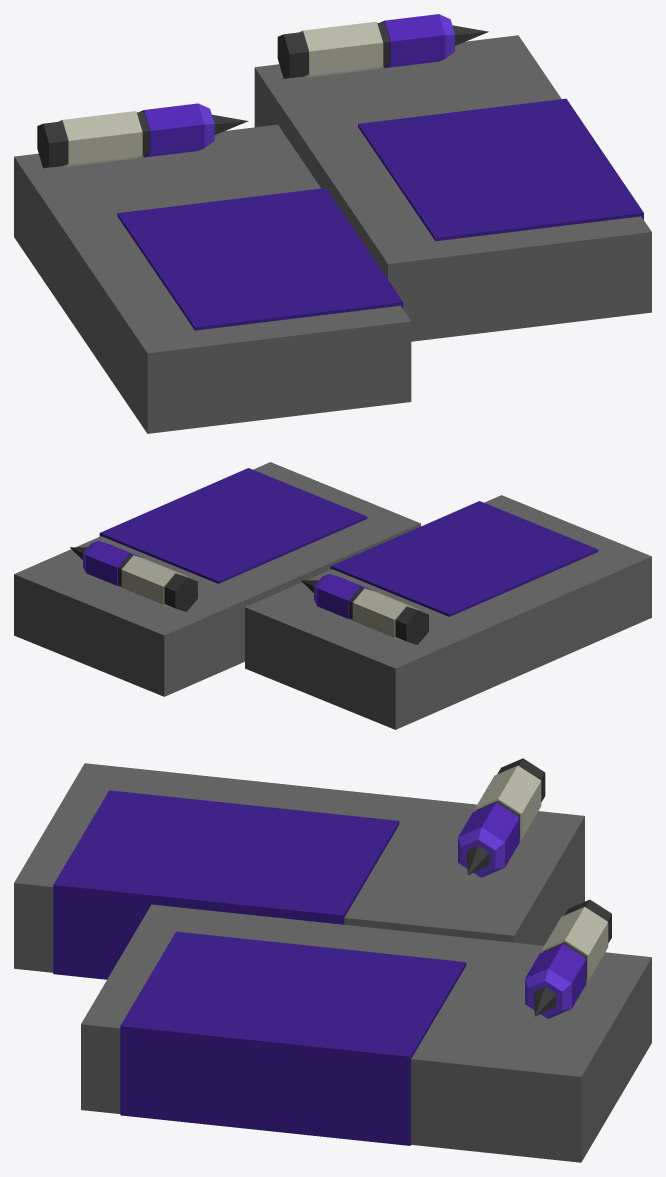
The model's file is ce_ammo_gae_chrifle_ion_b.obj.
3 renders of one model, top to bottom at view 1: azimuth 30°, elevation 25°; view 2: azimuth 150°, elevation 25°; view 3: azimuth 270°, elevation 25°, orthographic. The views are drawn at different scales.
Parts seen in each view (by area): view 1: ce_ammo_gae_chrifle_ion_b_0, ce_ammo_gae_chrifle_ion_b_8, ce_ammo_gae_chrifle_ion_b_1, ce_ammo_gae_chrifle_ion_b_9, ce_ammo_gae_chrifle_ion_b_11, ce_ammo_gae_chrifle_ion_b_3, ce_ammo_gae_chrifle_ion_b_13, ce_ammo_gae_chrifle_ion_b_5, ce_ammo_gae_chrifle_ion_b_2, ce_ammo_gae_chrifle_ion_b_10; view 2: ce_ammo_gae_chrifle_ion_b_0, ce_ammo_gae_chrifle_ion_b_8, ce_ammo_gae_chrifle_ion_b_1, ce_ammo_gae_chrifle_ion_b_9, ce_ammo_gae_chrifle_ion_b_3, ce_ammo_gae_chrifle_ion_b_11, ce_ammo_gae_chrifle_ion_b_5, ce_ammo_gae_chrifle_ion_b_13, ce_ammo_gae_chrifle_ion_b_10, ce_ammo_gae_chrifle_ion_b_2; view 3: ce_ammo_gae_chrifle_ion_b_9, ce_ammo_gae_chrifle_ion_b_8, ce_ammo_gae_chrifle_ion_b_0, ce_ammo_gae_chrifle_ion_b_1, ce_ammo_gae_chrifle_ion_b_3, ce_ammo_gae_chrifle_ion_b_11, ce_ammo_gae_chrifle_ion_b_13, ce_ammo_gae_chrifle_ion_b_5, ce_ammo_gae_chrifle_ion_b_6, ce_ammo_gae_chrifle_ion_b_14.
Boxes of the visible parts, left/top/right/bottom form: ce_ammo_gae_chrifle_ion_b_0: left=14, top=124, right=411, bottom=433; ce_ammo_gae_chrifle_ion_b_8: left=254, top=35, right=651, bottom=341; ce_ammo_gae_chrifle_ion_b_1: left=117, top=188, right=403, bottom=330; ce_ammo_gae_chrifle_ion_b_9: left=358, top=98, right=643, bottom=241; ce_ammo_gae_chrifle_ion_b_11: left=299, top=21, right=383, bottom=77; ce_ammo_gae_chrifle_ion_b_3: left=58, top=111, right=142, bottom=167; ce_ammo_gae_chrifle_ion_b_13: left=379, top=14, right=445, bottom=67; ce_ammo_gae_chrifle_ion_b_5: left=140, top=103, right=204, bottom=157; ce_ammo_gae_chrifle_ion_b_2: left=37, top=121, right=68, bottom=168; ce_ammo_gae_chrifle_ion_b_10: left=277, top=32, right=308, bottom=78; ce_ammo_gae_chrifle_ion_b_0: left=245, top=495, right=651, bottom=729; ce_ammo_gae_chrifle_ion_b_8: left=14, top=462, right=420, bottom=696; ce_ammo_gae_chrifle_ion_b_1: left=330, top=501, right=598, bottom=616; ce_ammo_gae_chrifle_ion_b_9: left=99, top=468, right=367, bottom=583; ce_ammo_gae_chrifle_ion_b_3: left=352, top=588, right=418, bottom=640; ce_ammo_gae_chrifle_ion_b_11: left=121, top=555, right=187, bottom=607; ce_ammo_gae_chrifle_ion_b_5: left=317, top=574, right=371, bottom=620; ce_ammo_gae_chrifle_ion_b_13: left=86, top=541, right=140, bottom=587; ce_ammo_gae_chrifle_ion_b_10: left=164, top=573, right=197, bottom=611; ce_ammo_gae_chrifle_ion_b_2: left=395, top=606, right=428, bottom=644; ce_ammo_gae_chrifle_ion_b_9: left=120, top=931, right=466, bottom=1145; ce_ammo_gae_chrifle_ion_b_8: left=81, top=904, right=651, bottom=1162; ce_ammo_gae_chrifle_ion_b_0: left=14, top=763, right=584, bottom=972; ce_ammo_gae_chrifle_ion_b_1: left=53, top=790, right=399, bottom=979; ce_ammo_gae_chrifle_ion_b_3: left=474, top=765, right=541, bottom=839; ce_ammo_gae_chrifle_ion_b_11: left=541, top=907, right=608, bottom=981; ce_ammo_gae_chrifle_ion_b_13: left=525, top=944, right=586, bottom=1007; ce_ammo_gae_chrifle_ion_b_5: left=458, top=802, right=519, bottom=866; ce_ammo_gae_chrifle_ion_b_6: left=458, top=827, right=504, bottom=877; ce_ammo_gae_chrifle_ion_b_14: left=525, top=968, right=571, bottom=1018.
Bounding box in the file's own units: 0.7776 × 0.1675 × 0.668.
